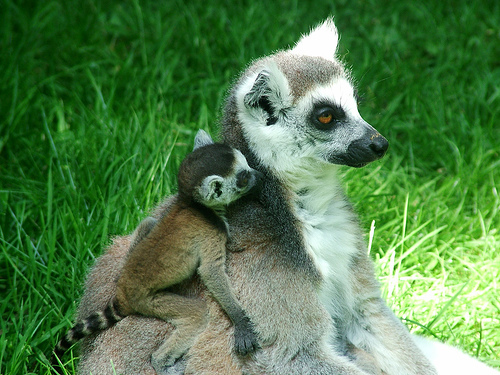cat: (72, 14, 440, 374), (49, 130, 264, 370)
